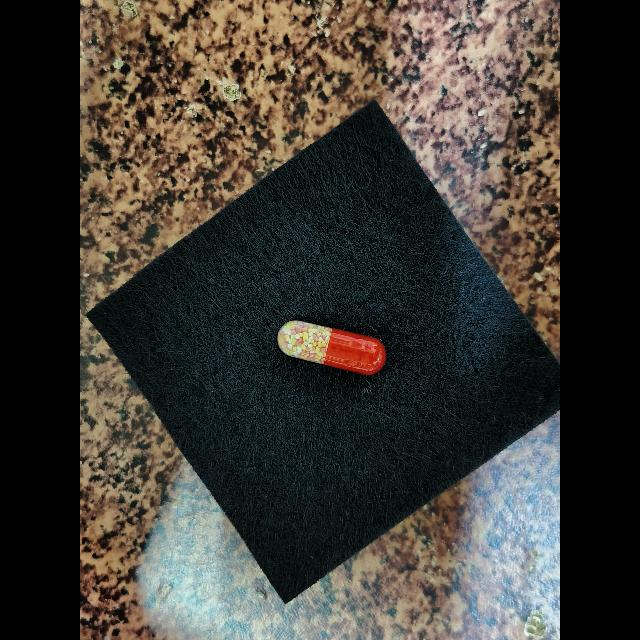Intact Capsule: (277, 320, 386, 375)
